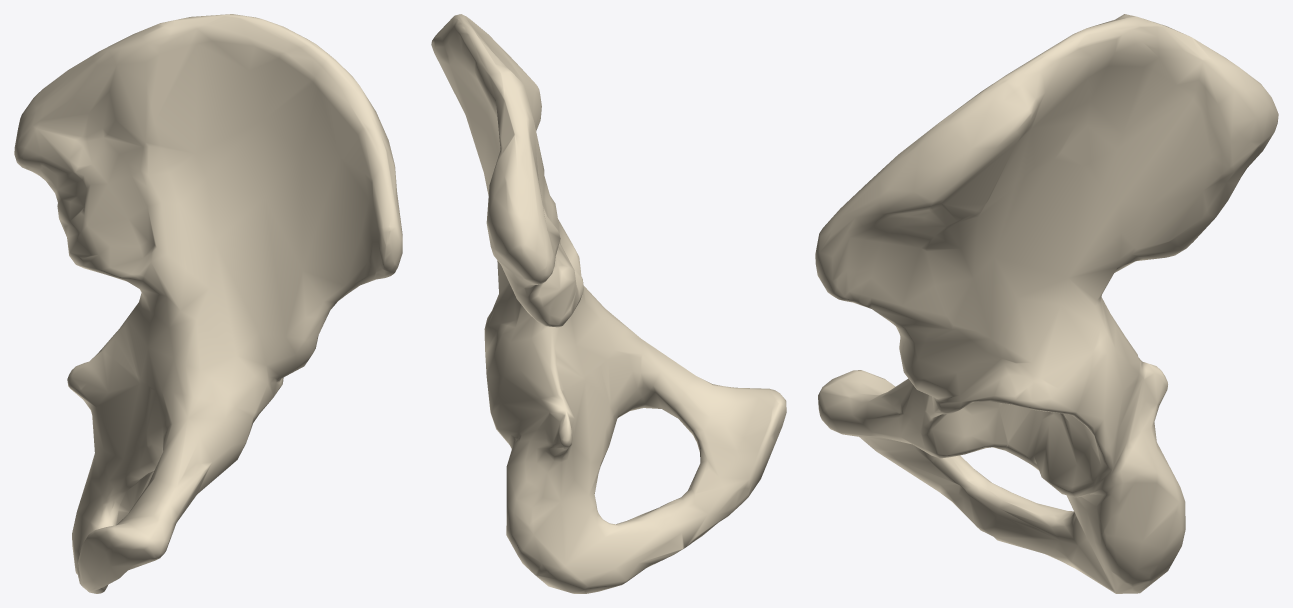
The model's file is hip-bone-l.glb.
3 views of the same model, side by side, from view 1: azimuth 30°, elevation 25°; view 2: azimuth 150°, elevation 25°; view 3: azimuth 270°, elevation 25° (orthographic). The views are drawn at different scales.
Visible parts, largest first — view 1: Hip bone.l; view 2: Hip bone.l; view 3: Hip bone.l.
Part boxes in pixels (x1,y1,x2,y2): Hip bone.l: (14,14,402,593); Hip bone.l: (431,14,786,593); Hip bone.l: (815,14,1278,593).
Bounding box in the file's own units: 0.132 × 0.2146 × 0.1428.
